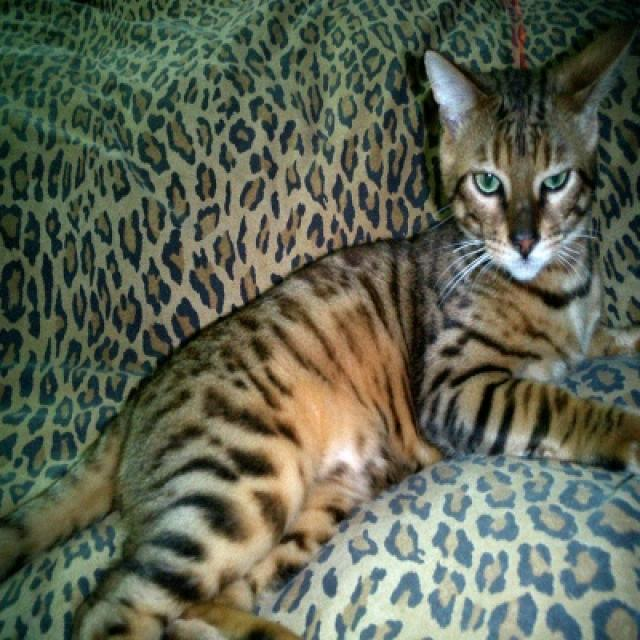Tiger: (1, 16, 638, 638)
